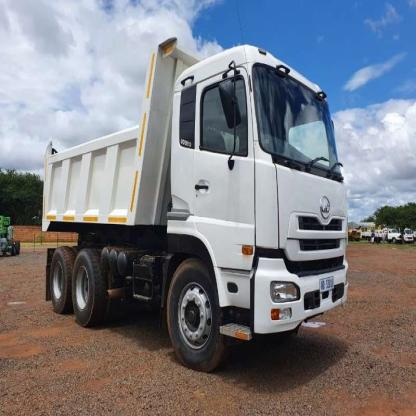dump_truck: (37, 23, 350, 378)
